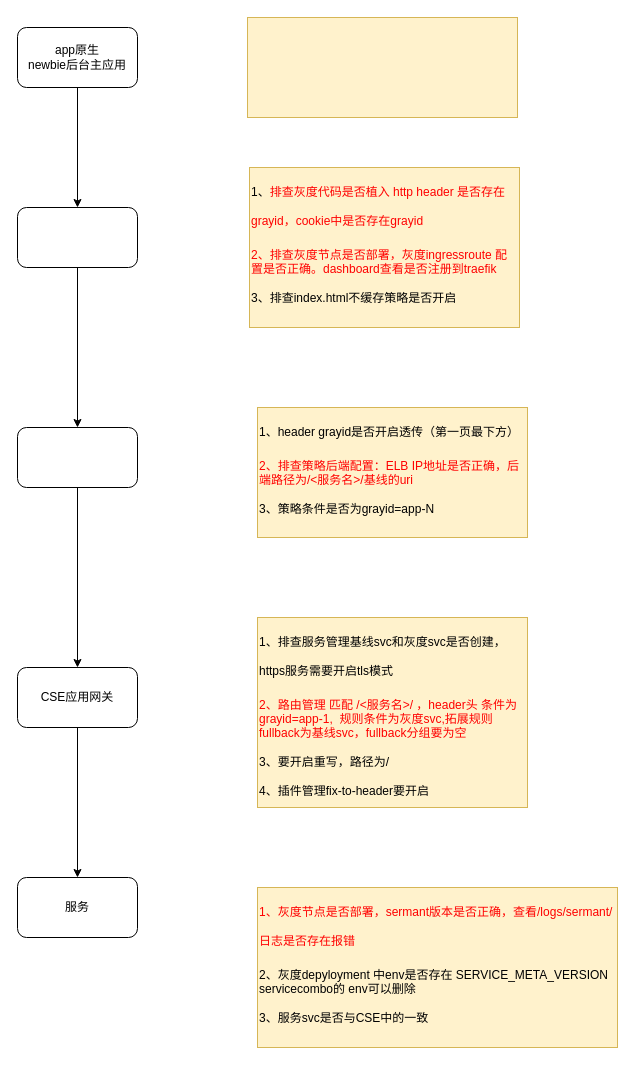
This 635x1068 diagram has some shape labels left out. The box of each missing label's shape, as (x1, y1, x2, y2) in pixels:
1、排查灰度代码是否植入，代码分支需要在 241330以上 ， http header 是否存在grayid 2、圈人接口是否返回正确的灰度标识: (246, 16, 518, 118)
APIG网关: (16, 426, 138, 488)
内嵌H5 pc web: (16, 206, 138, 268)
